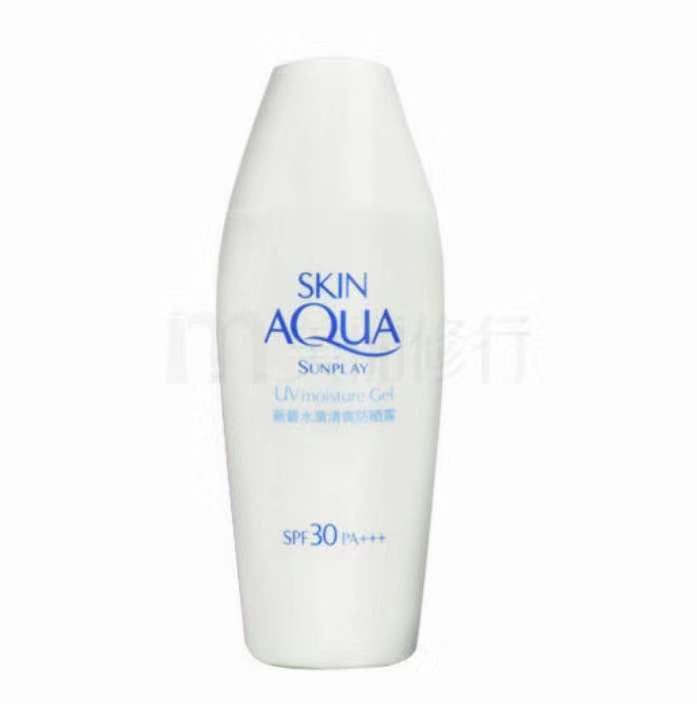cosmetic: (233, 53, 432, 653)
